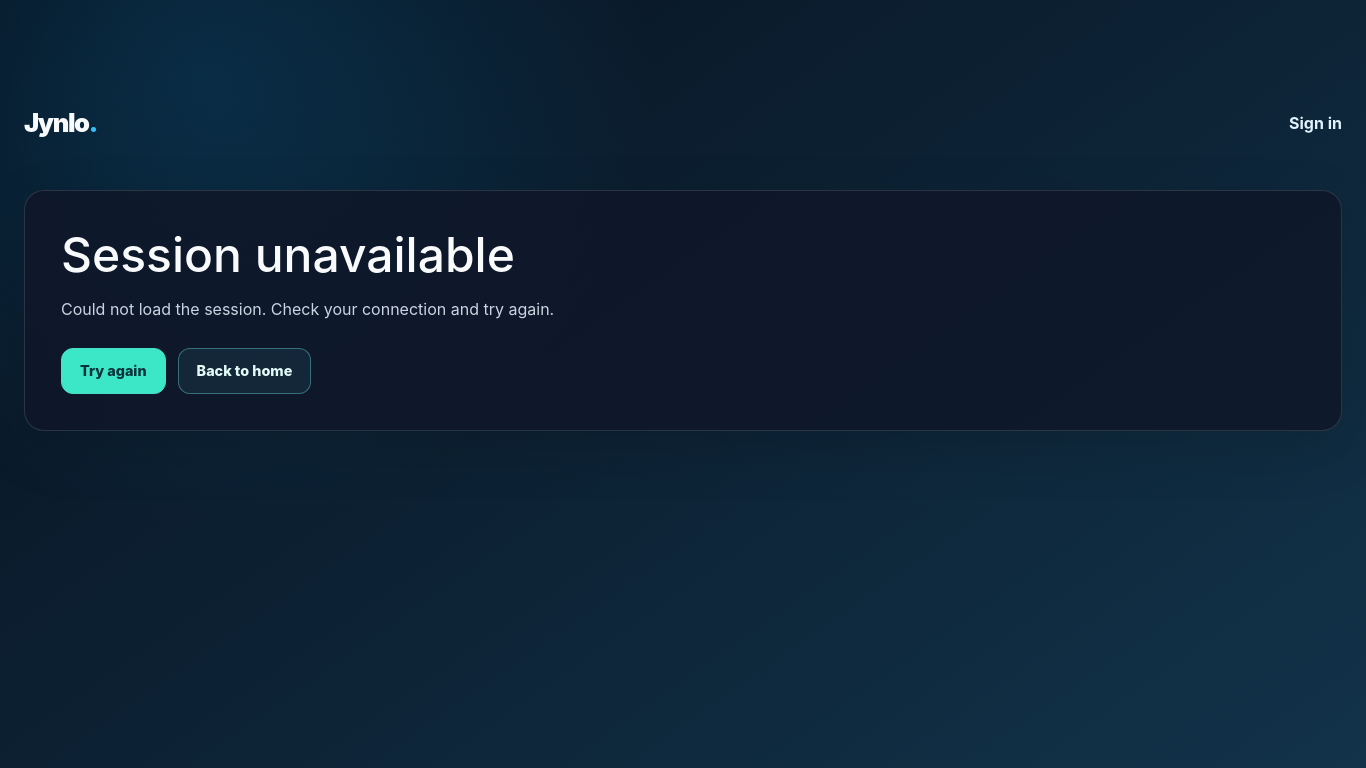
PublicSessionPreviewComponent › translates temporary preview failures and the retry action
Step 1. Click the button with class "retry-action" → [113, 371], box [61,348,166,394]
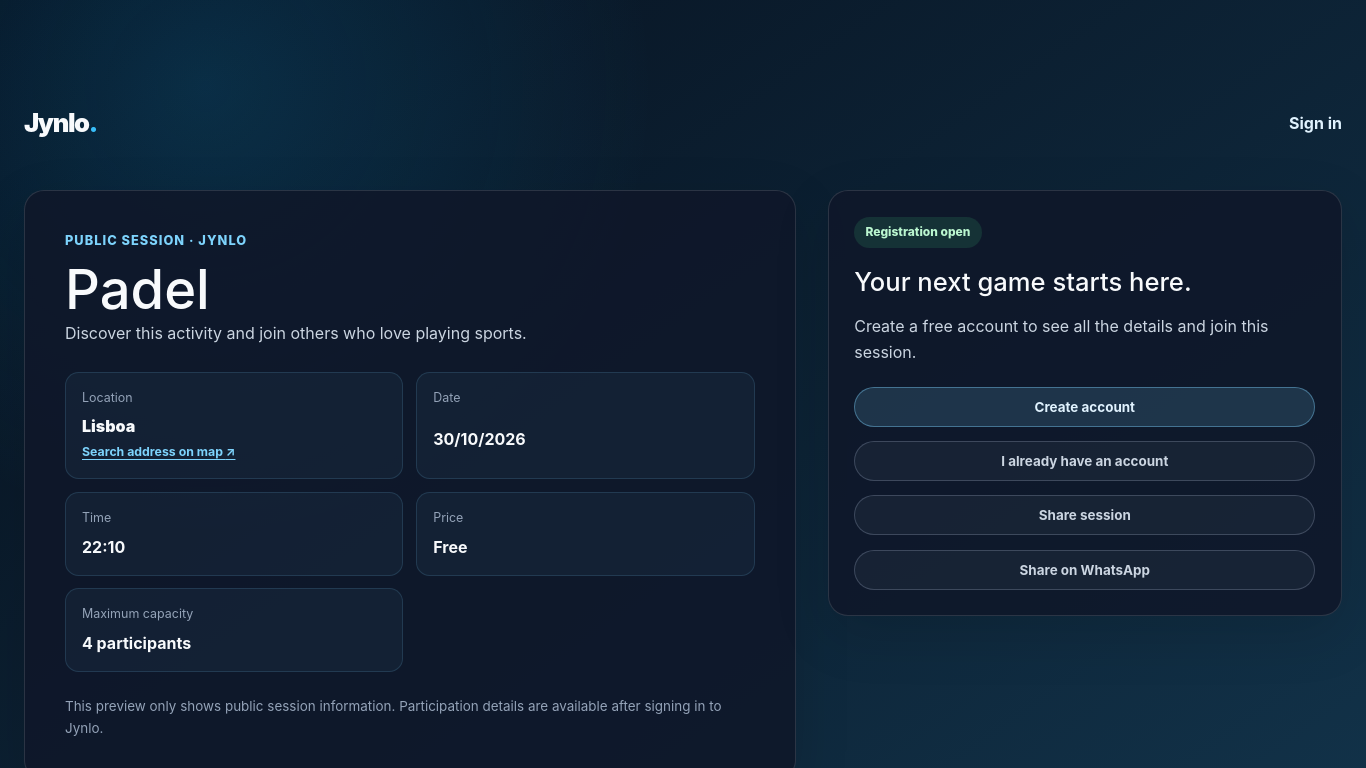
Now the text "Padel" is shown, box [65,256,210,322]
Now the button with class "retry-action" is gone
